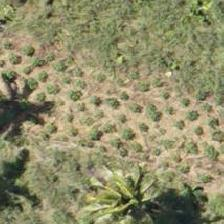coconut_tree: (89, 149, 179, 223)
